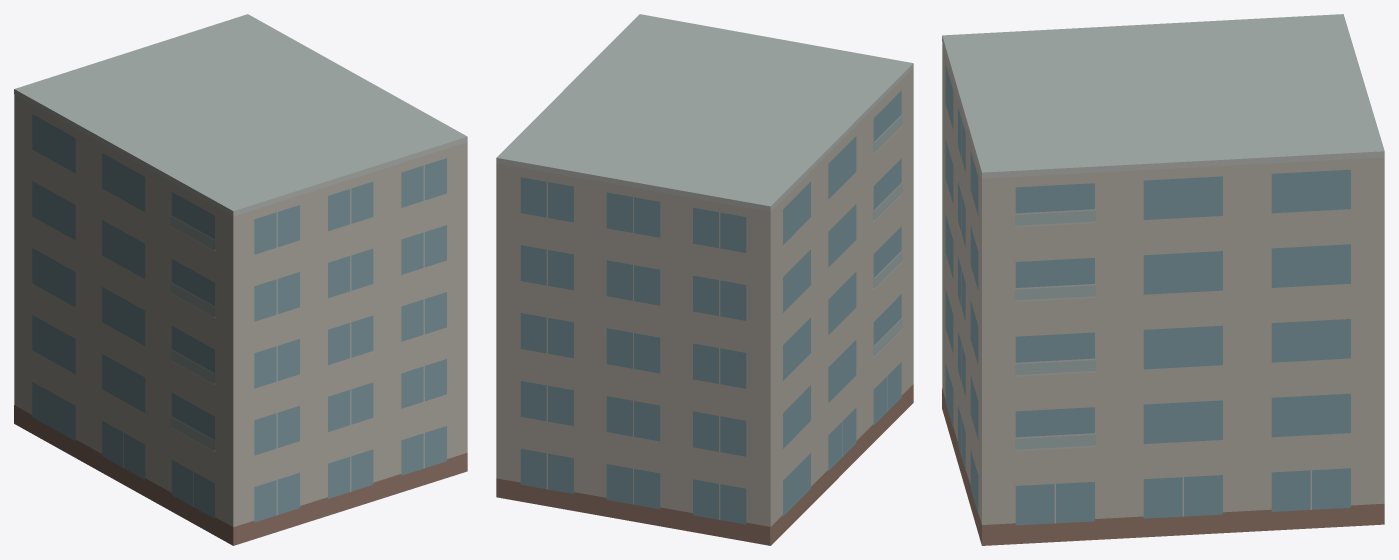
File: survey-upis-32533388.glb
The picture shows the model from 3 angles, left to right: view 1: azimuth 30°, elevation 25°; view 2: azimuth 150°, elevation 25°; view 3: azimuth 270°, elevation 25°; orthographic projection. The views are drawn at different scales.
Parts seen in each view (by area): view 1: survey-upis-32533388.tmp; view 2: survey-upis-32533388.tmp; view 3: survey-upis-32533388.tmp.
Part boxes in pixels (box(x1,y1,x2,y2)): survey-upis-32533388.tmp: box(14, 14, 467, 545); survey-upis-32533388.tmp: box(496, 14, 913, 545); survey-upis-32533388.tmp: box(942, 14, 1384, 545).
Size of the model in its own units: 13.9 by 15.25 by 16.4.
